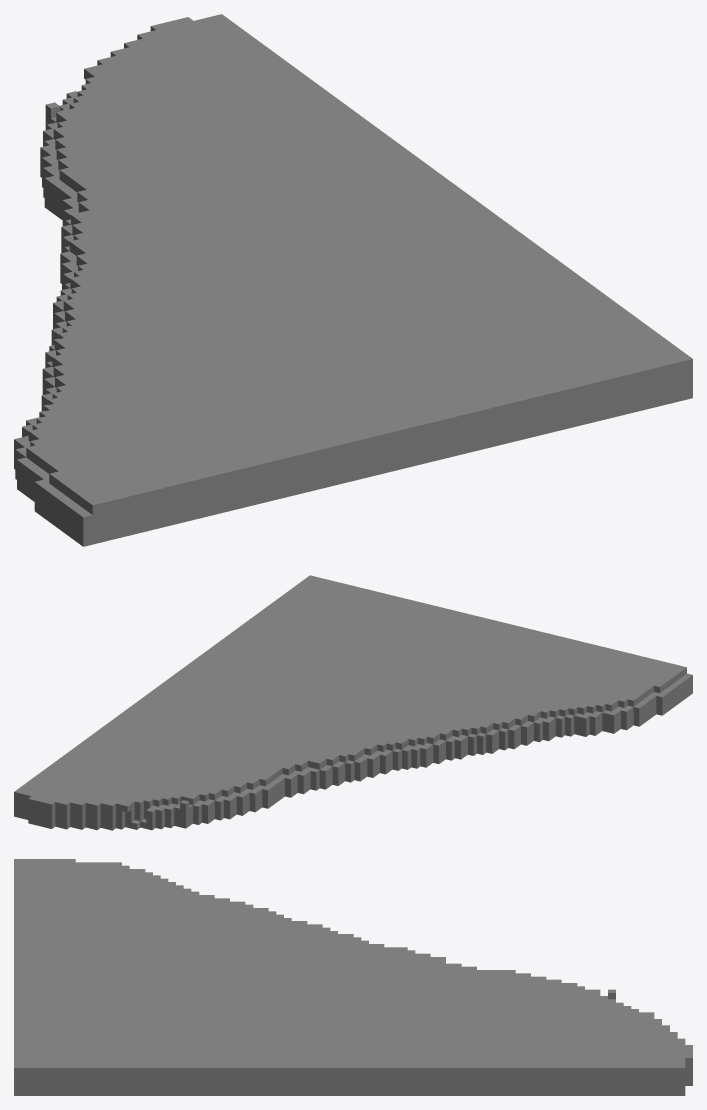
The model's file is Main Island-20.obj.
The picture shows the model from 3 angles, top to bottom: view 1: azimuth 30°, elevation 25°; view 2: azimuth 150°, elevation 25°; view 3: azimuth 270°, elevation 25°; orthographic projection. The views are drawn at different scales.
Parts seen in each view (by area): view 1: Main Island-20; view 2: Main Island-20; view 3: Main Island-20.
Boxes of the visible parts, x1=… form: Main Island-20: x1=14, y1=14, x2=692, y2=546; Main Island-20: x1=14, y1=575, x2=692, y2=830; Main Island-20: x1=14, y1=859, x2=692, y2=1095.
Size of the model in its own units: 65 by 4 by 88.
Materials: 1 (1 with a texture image).
